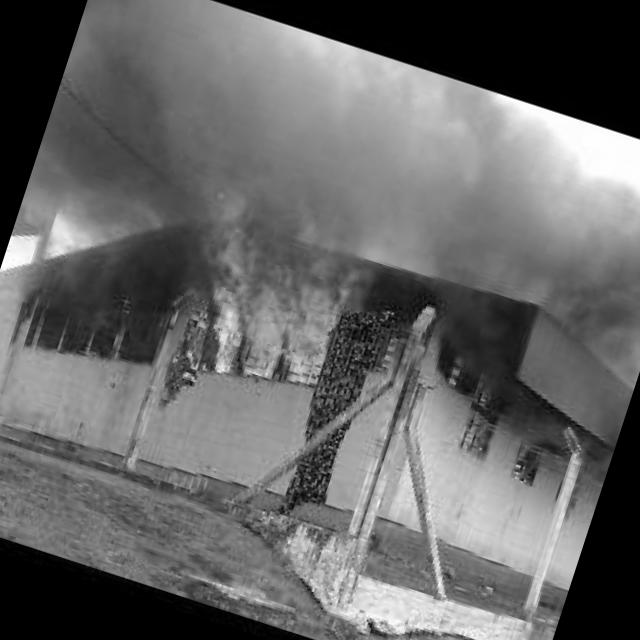fire: (154, 180, 384, 418)
smoke: (23, 0, 510, 330), (398, 102, 640, 503)
